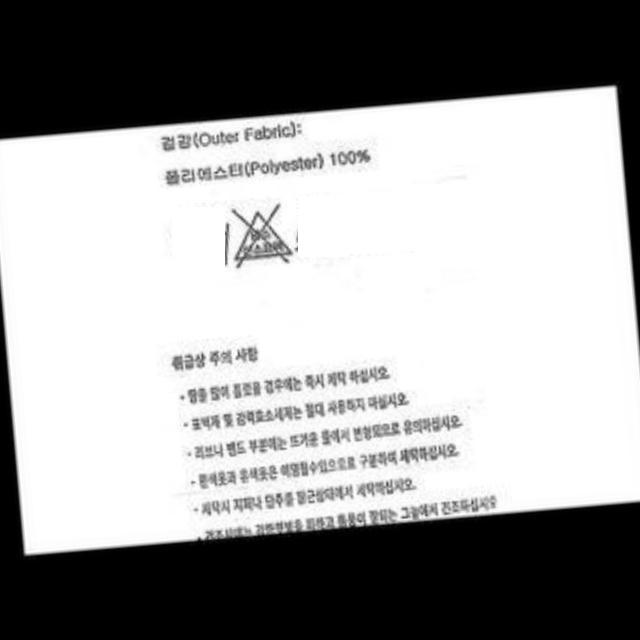DN_bleach: (226, 198, 297, 272)
